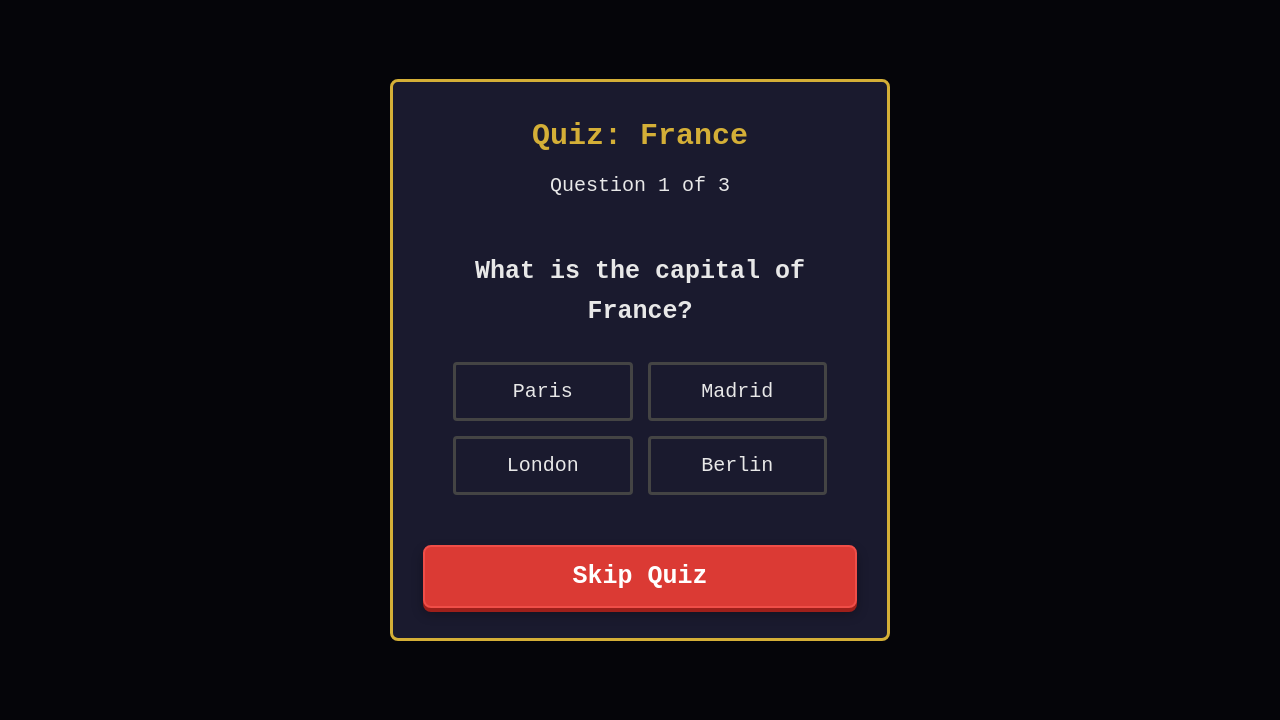
Test: QuizModal › answer selection and feedback flow › transitions to feedback phase after answer selection
The image size is (1280, 720).
Note: Select an answer
Step 1. Click the button "Paris" → coordinates (543, 392), box top-left (453, 362), bottom-right (632, 421)
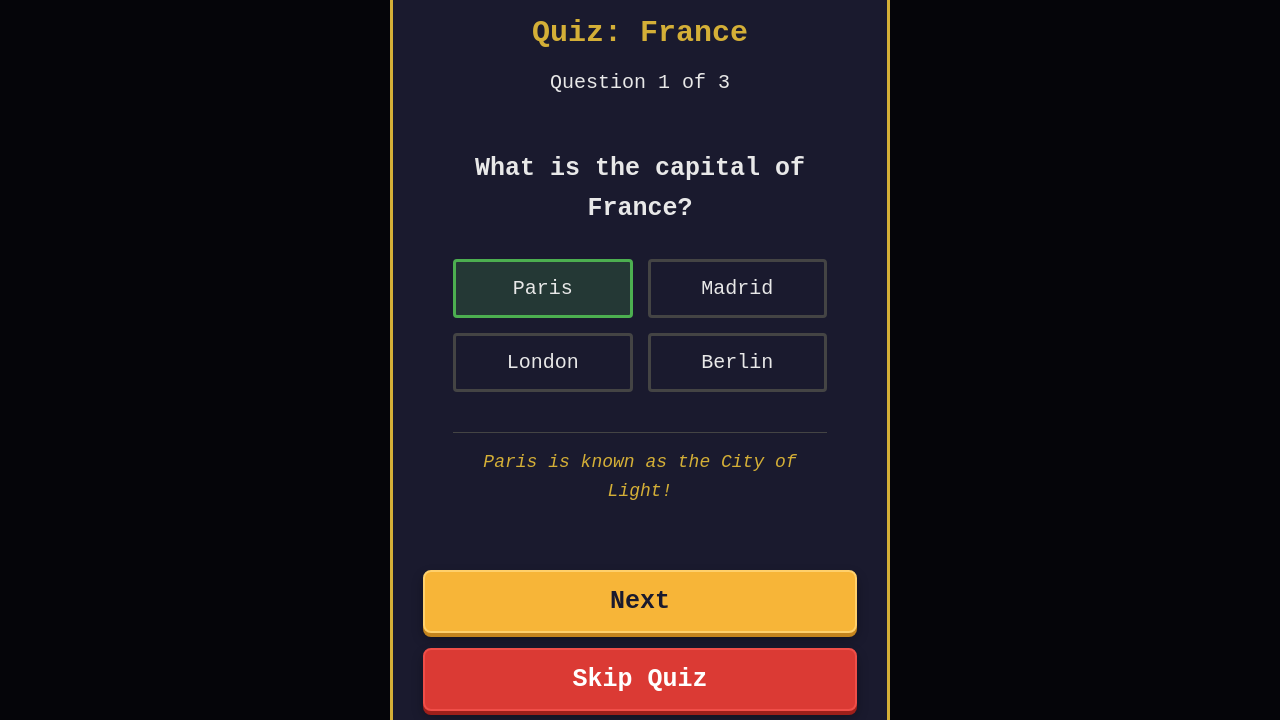
Expected: the text "Paris is known as the City of Light!" is shown, top-left (453, 432), bottom-right (827, 520)
